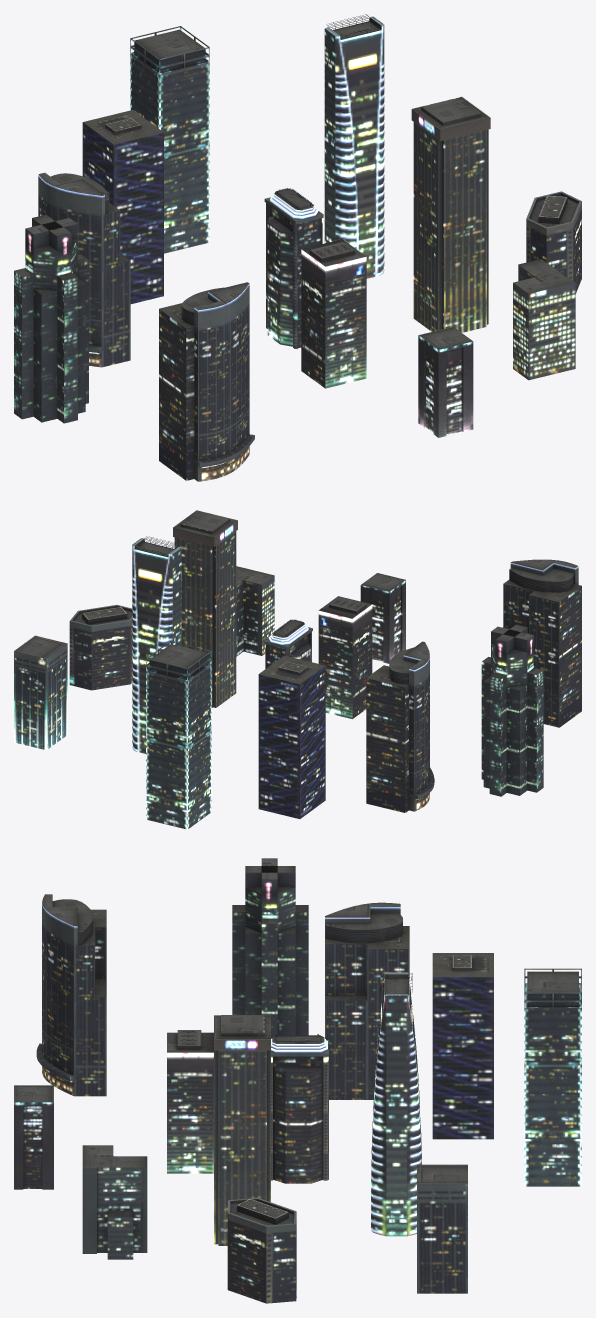
Rendered from skyline.gltf.
3 renders of one model, top to bottom at view 1: azimuth 30°, elevation 25°; view 2: azimuth 150°, elevation 25°; view 3: azimuth 270°, elevation 25°, orthographic. The views are drawn at different scales.
Parts seen in each view (by area): view 1: Cube.001; view 2: Cube.001; view 3: Cube.001.
Boxes of the visible parts, box(x1,y1,x2,y2) form: Cube.001: box(14, 14, 581, 481); Cube.001: box(14, 510, 581, 829); Cube.001: box(14, 858, 581, 1303).
Bounding box in the file's own units: 196 × 81.99 × 173.
1 material, 1 textured.
